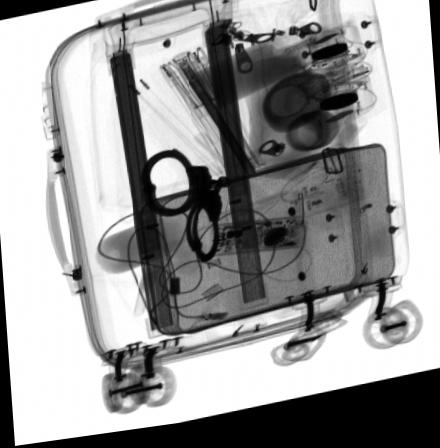HandCuffs: (138, 152, 233, 269)
